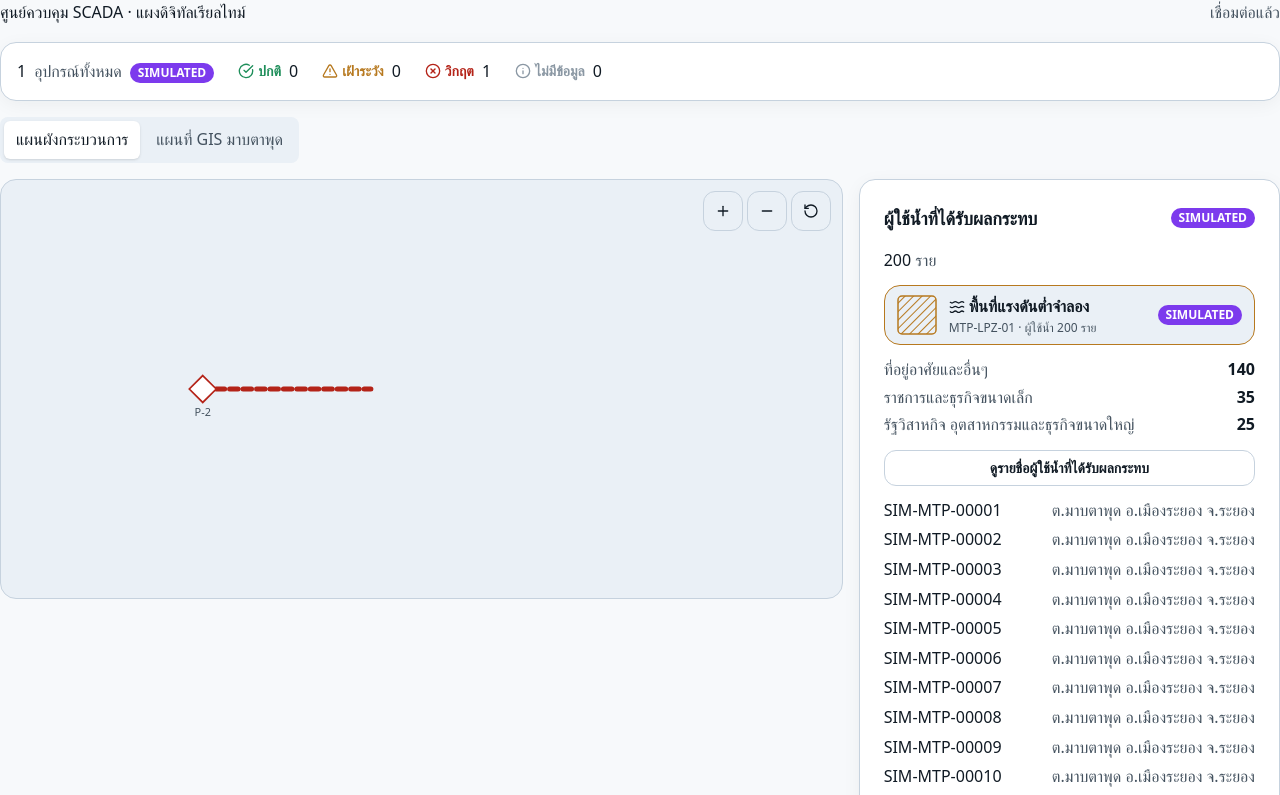
Test: PR-J — clickable low-pressure impact (R14/R19/R20) › T7b: selecting a row fetches and renders that account's detail + 12 readings
This screenshot has width=1280, height=795.
Expected: the icon with test id "twin-schematic" is shown, [0,179,843,599]
Click the button with test id "low-pressure-area": (1069, 315) [884,285,1255,345]
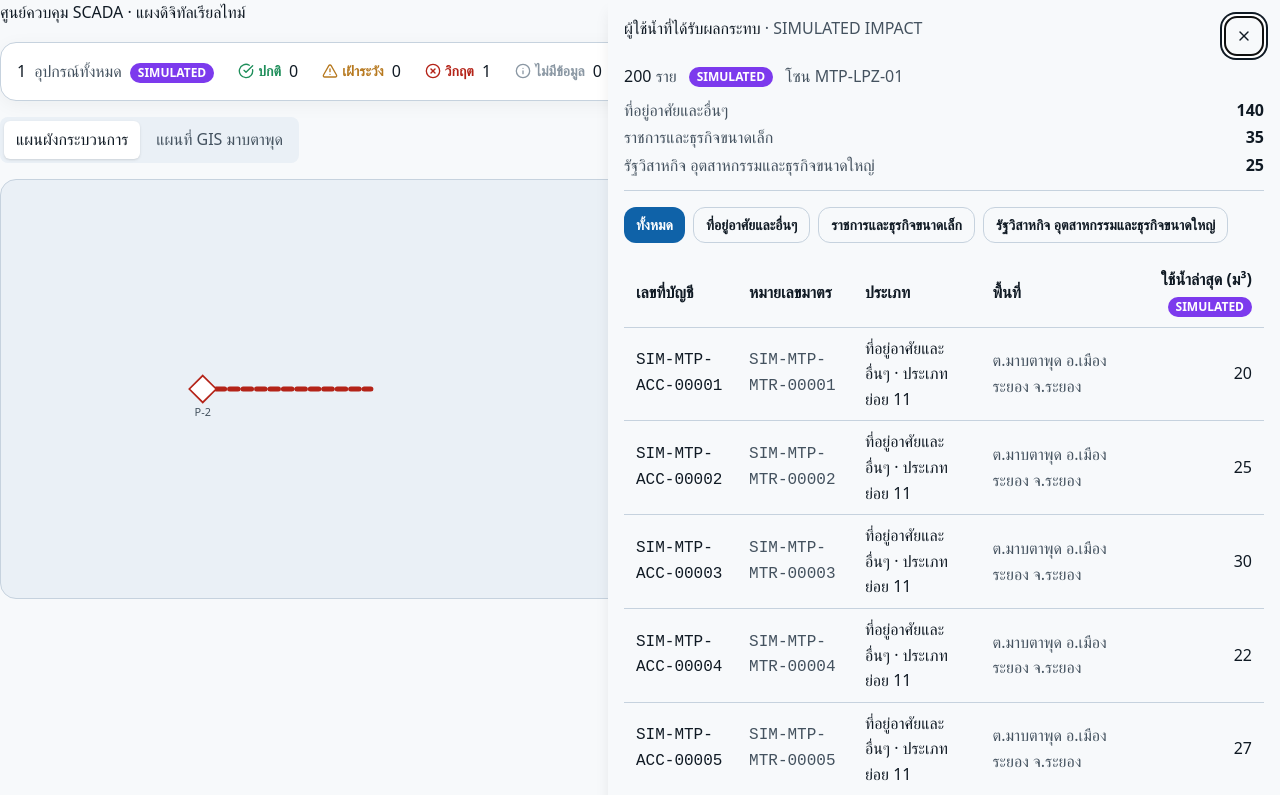
Click the button with test id "customer-select" showing "SIM-MTP-ACC-00001": (681, 374) [636,348,725,400]
(page scrolled)
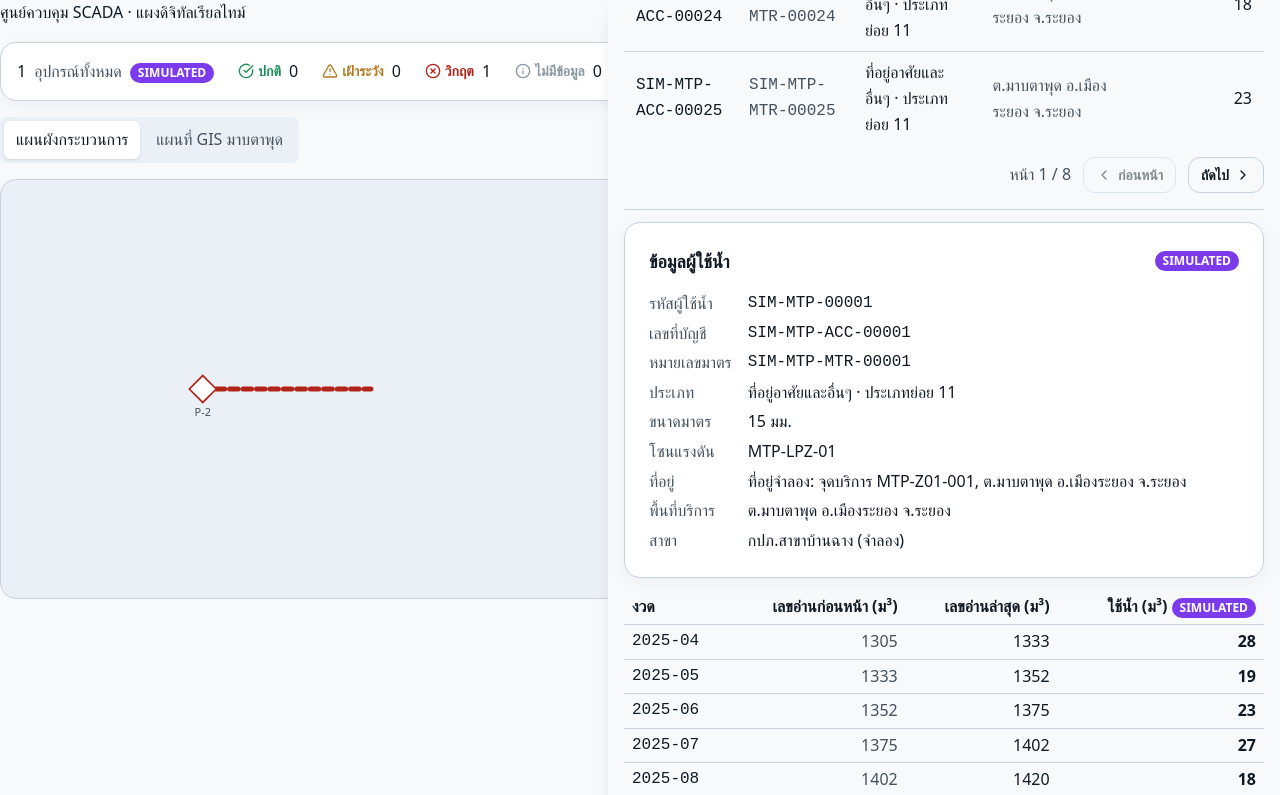
Expected: the element with test id "customer-detail" shows "SIM-MTP-00001", [748,294,872,312]
